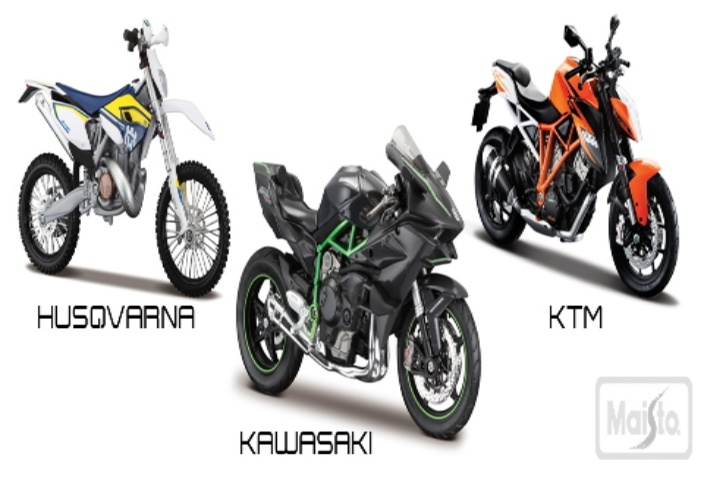motorcycle: (427, 12, 694, 311), (228, 147, 488, 447), (11, 18, 237, 309)
